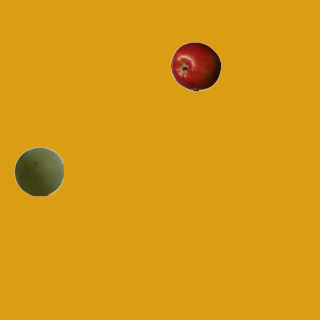Apple Braeburn: (170, 41, 220, 91)
Grape White 4: (13, 146, 63, 196)
